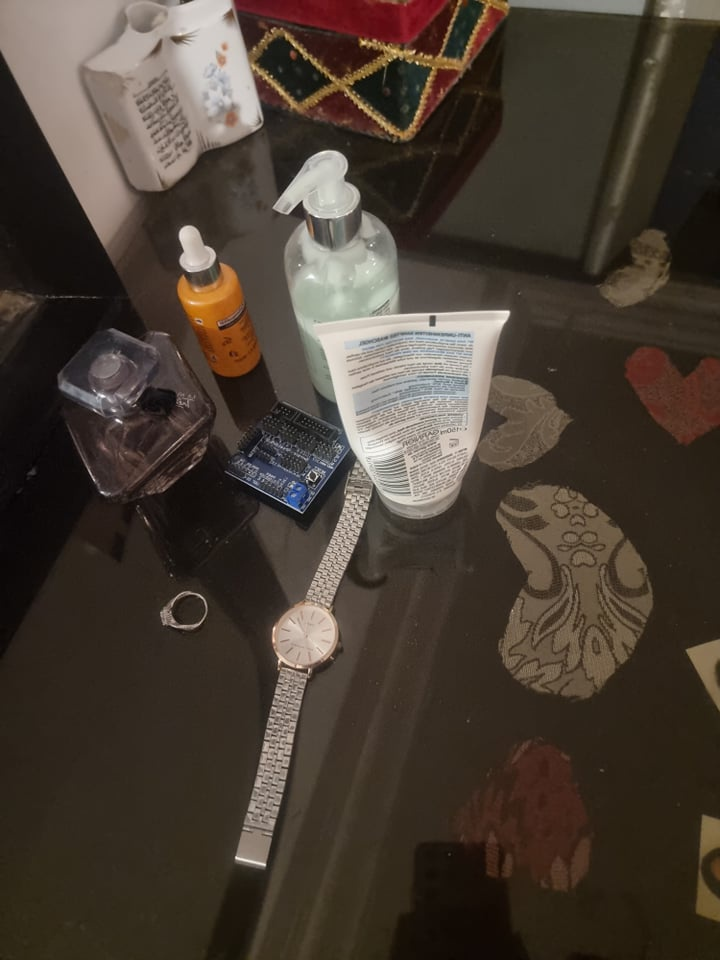5V EXPANSION: (225, 402, 347, 518)
